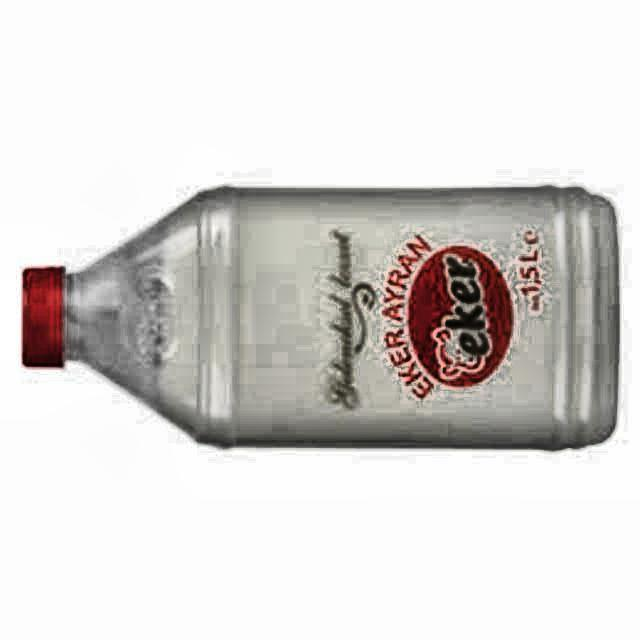plastic: (22, 188, 618, 448)
